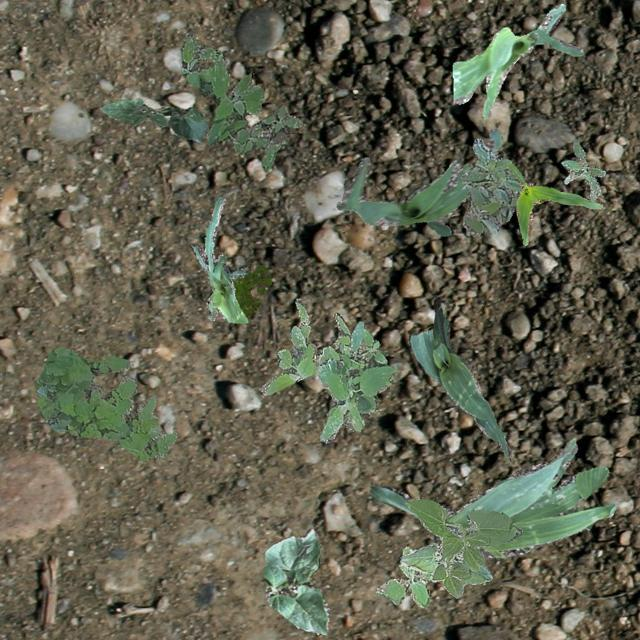crop: (370, 437, 614, 558), (336, 128, 500, 235), (408, 298, 510, 460), (452, 2, 582, 120), (399, 498, 522, 596), (506, 162, 602, 245), (260, 528, 328, 634), (192, 196, 246, 322), (100, 98, 206, 142)
weed: (180, 32, 302, 168), (34, 346, 174, 460), (316, 321, 396, 442), (260, 298, 352, 394), (460, 137, 520, 235), (374, 546, 430, 606), (560, 137, 604, 200), (230, 264, 270, 316)
